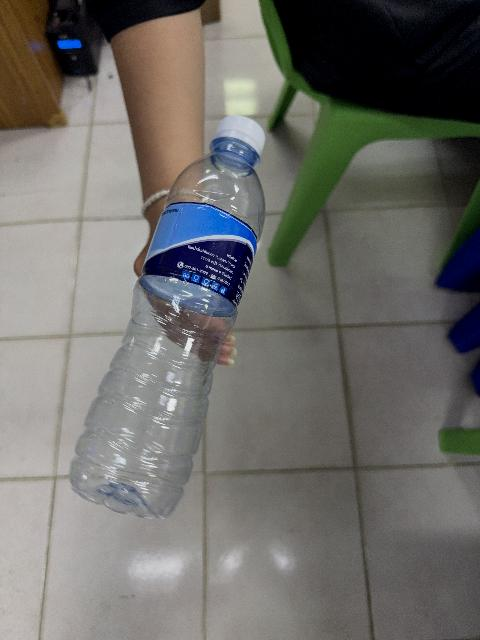bottle: (71, 117, 264, 517)
